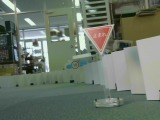stop: (83, 24, 114, 54)
